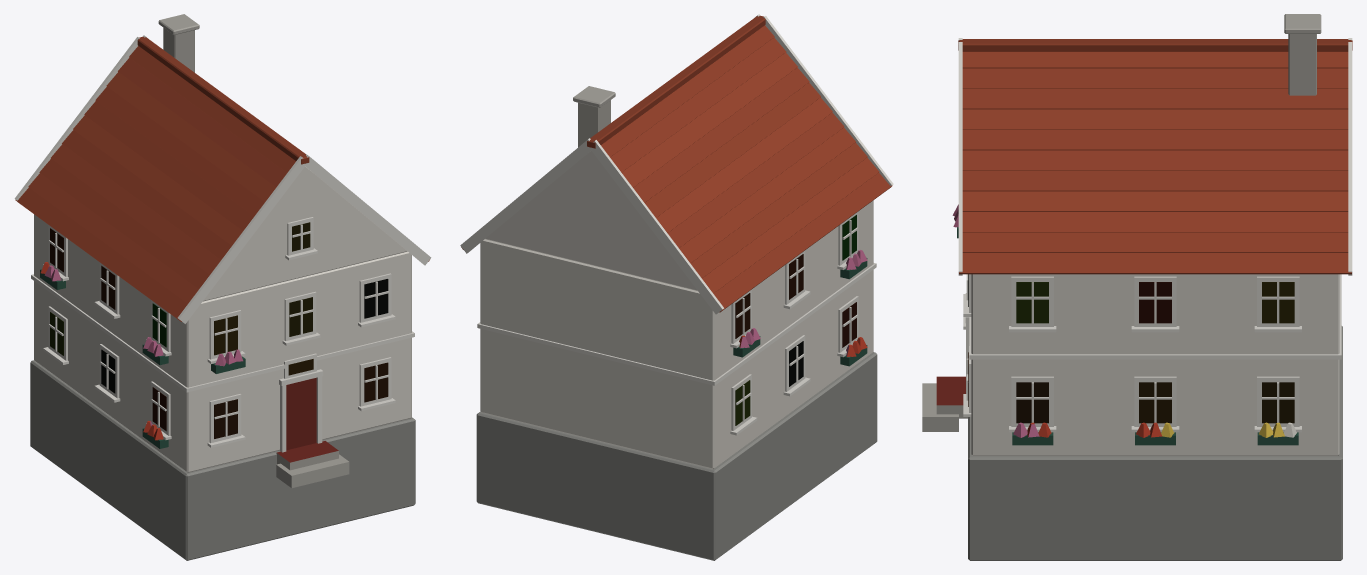
File: house_c_white_render.glb
3 views of the same model, side by side, from view 1: azimuth 30°, elevation 25°; view 2: azimuth 150°, elevation 25°; view 3: azimuth 270°, elevation 25° (orthographic). The views are drawn at different scales.
Visible parts, largest first — view 1: house_c_white_render_walls, house_c_white_render_roof, house_c_white_render_plinth, house_c_white_render_trim, house_c_white_render_glass, house_c_white_render_door, house_c_white_render_ridge, house_c_white_render_chimney, house_c_white_render_fflowers, house_c_white_render_fbox; view 2: house_c_white_render_walls, house_c_white_render_roof, house_c_white_render_plinth, house_c_white_render_trim, house_c_white_render_glass, house_c_white_render_ridge, house_c_white_render_chimney, house_c_white_render_fflowers, house_c_white_render_fbox; view 3: house_c_white_render_roof, house_c_white_render_walls, house_c_white_render_plinth, house_c_white_render_trim, house_c_white_render_glass, house_c_white_render_ridge, house_c_white_render_chimney, house_c_white_render_door, house_c_white_render_fflowers, house_c_white_render_fbox.
Boxes of the visible parts, x1,y1,x2,y2 form: house_c_white_render_walls: (34,166,411,472); house_c_white_render_roof: (15,46,429,321); house_c_white_render_plinth: (30,360,415,560); house_c_white_render_trim: (14,35,431,452); house_c_white_render_glass: (50,222,388,438); house_c_white_render_door: (276,377,349,488); house_c_white_render_ridge: (137,36,309,164); house_c_white_render_chimney: (158,14,199,72); house_c_white_render_fflowers: (40,262,243,440); house_c_white_render_fbox: (40,269,245,448); house_c_white_render_walls: (480,150,873,468); house_c_white_render_roof: (461,25,892,312); house_c_white_render_plinth: (476,352,877,560); house_c_white_render_trim: (460,14,893,435); house_c_white_render_glass: (735,215,856,425); house_c_white_render_ridge: (587,15,765,148); house_c_white_render_chimney: (573,86,615,147); house_c_white_render_fflowers: (739,250,867,356); house_c_white_render_fbox: (733,258,867,366); house_c_white_render_roof: (959,51,1351,274); house_c_white_render_walls: (971,274,1339,455); house_c_white_render_plinth: (968,326,1342,560); house_c_white_render_trim: (958,38,1352,432); house_c_white_render_glass: (968,274,1294,423); house_c_white_render_ridge: (958,39,1352,51); house_c_white_render_chimney: (1284,14,1321,95); house_c_white_render_door: (922,376,967,431); house_c_white_render_fflowers: (952,204,1296,437); house_c_white_render_fbox: (957,227,1298,445).
Size of the model in its own units: 8.52 by 13.05 by 10.52.
